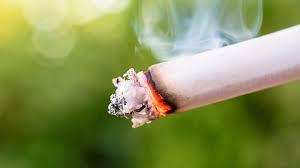fire: (134, 65, 173, 123)
smoke: (125, 0, 255, 47)
